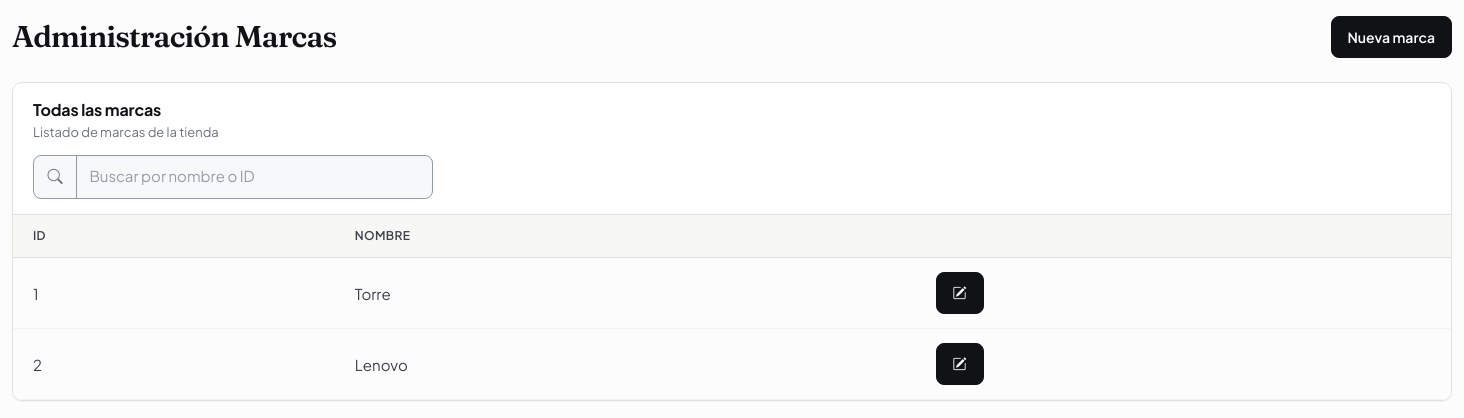
Scenario: AdminControlMarca › Filtra por nombre
The image size is (1464, 418).
Expected: the text "Torre" is shown, x1=335 y1=258 x2=916 y2=329
Type "leno" into the field with placeholder "Buscar por nombre o ID" at point(255, 176), box x1=76 y1=154 x2=433 y2=198
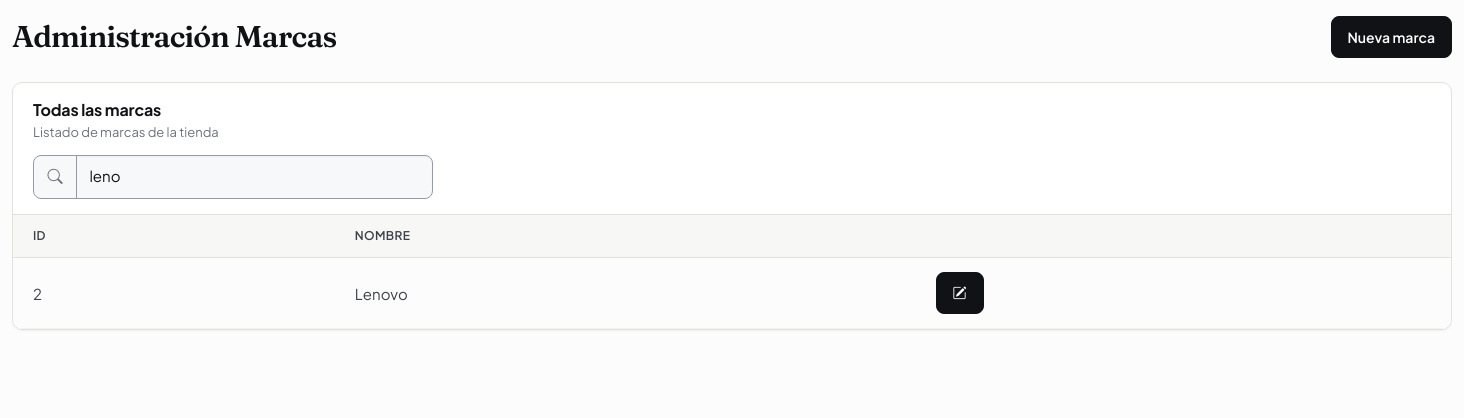
Expected: the text "Lenovo" is shown, x1=335 y1=258 x2=916 y2=329
Result: the text "Torre" is gone
